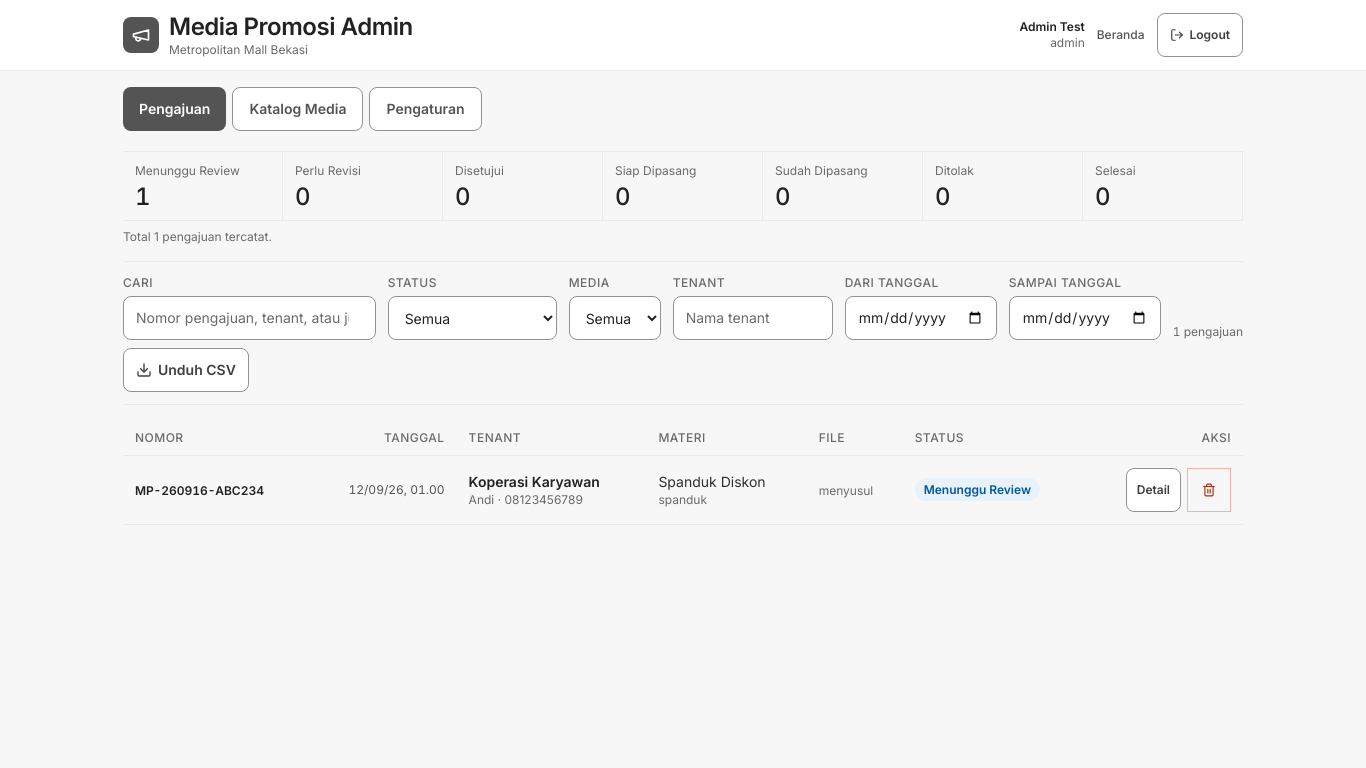
it: AdminDashboardPage - materi menyusul di Sheet detail (source_type none) › baris materi menjadi keterangan "Materi", bukan tautan "File" kosong
This screenshot has width=1366, height=768.
Expected: the text "Koperasi Karyawan" is shown, [469, 472, 600, 490]
Click the button "Detail". click: click(1153, 490)
box: [1126, 468, 1181, 512]
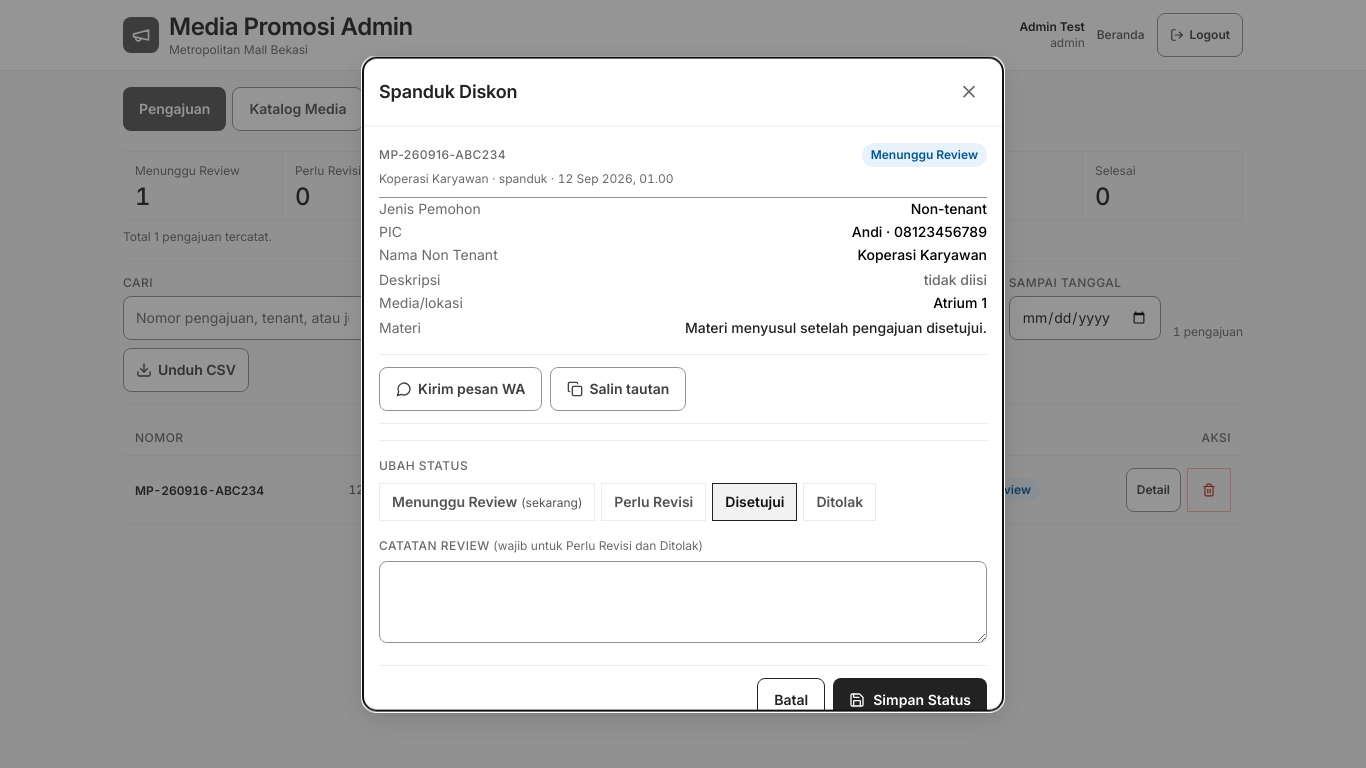
Expected: the dialog is shown, [363, 58, 1003, 710]
Expected: the text "Jenis Pemohon" is shown, [379, 198, 481, 219]
Expected: the text "Materi" is shown, [379, 315, 421, 338]
